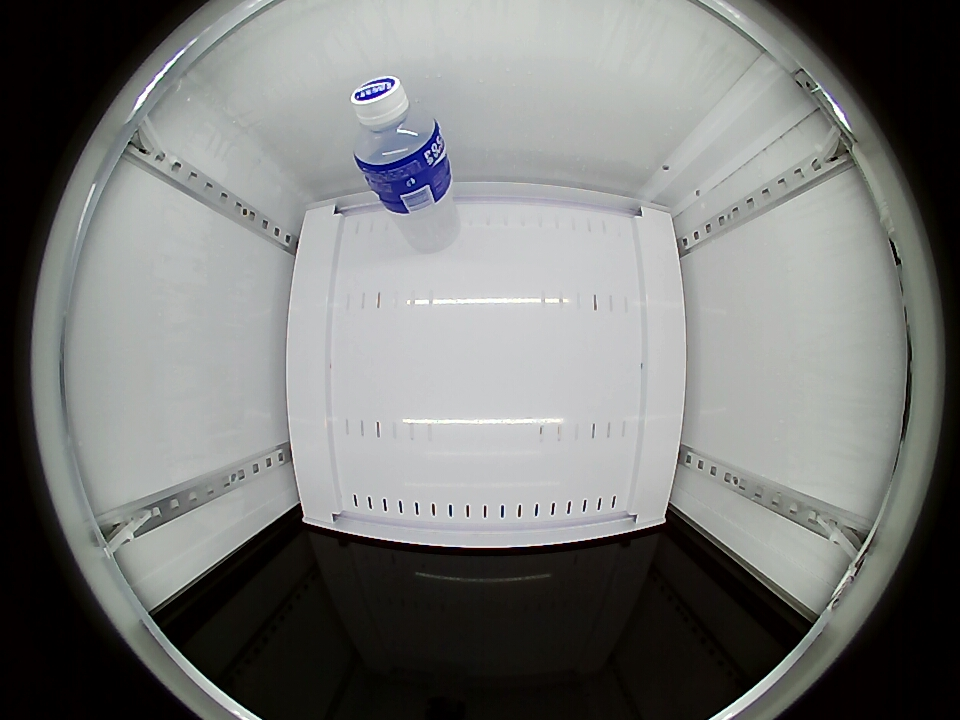baokuangli: (351, 75, 446, 181)
